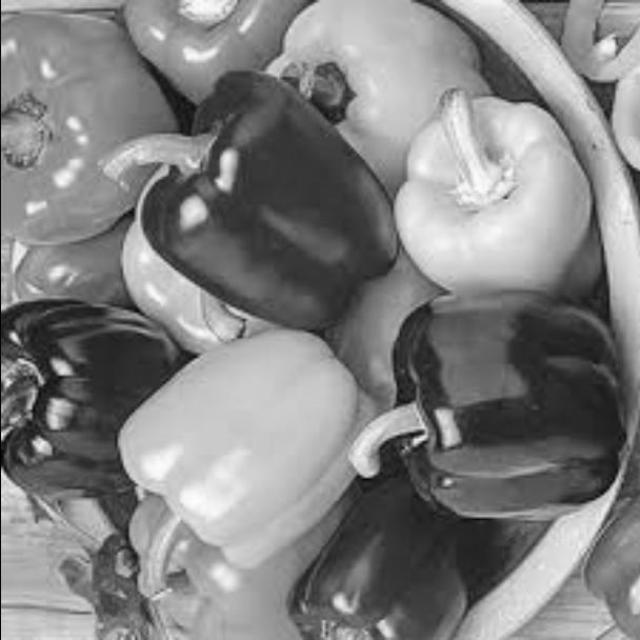bell pepper: (105, 63, 404, 343), (126, 317, 388, 580), (364, 292, 622, 530), (387, 82, 596, 320), (264, 0, 485, 198), (0, 296, 173, 508), (0, 9, 145, 250), (110, 492, 332, 639), (303, 477, 462, 639), (117, 0, 308, 112), (3, 207, 138, 328), (559, 0, 639, 162), (588, 487, 639, 639)
